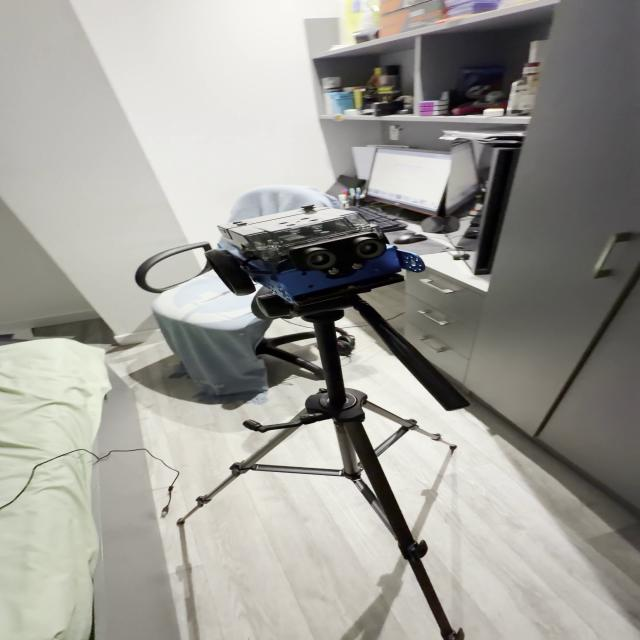mbot-detection: (194, 197, 433, 305)
